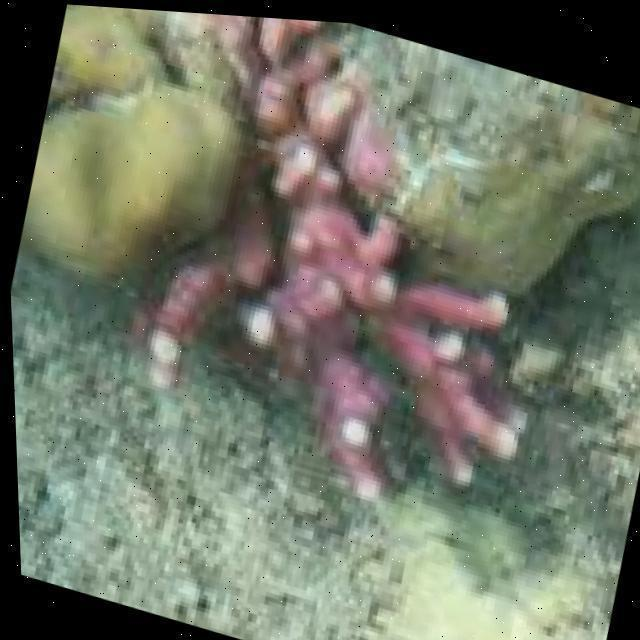Healthy Coral: (110, 6, 599, 542), (6, 35, 289, 329)
